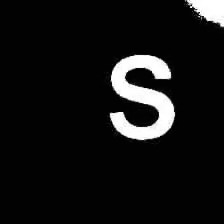LTR_S: (103, 46, 178, 148)
